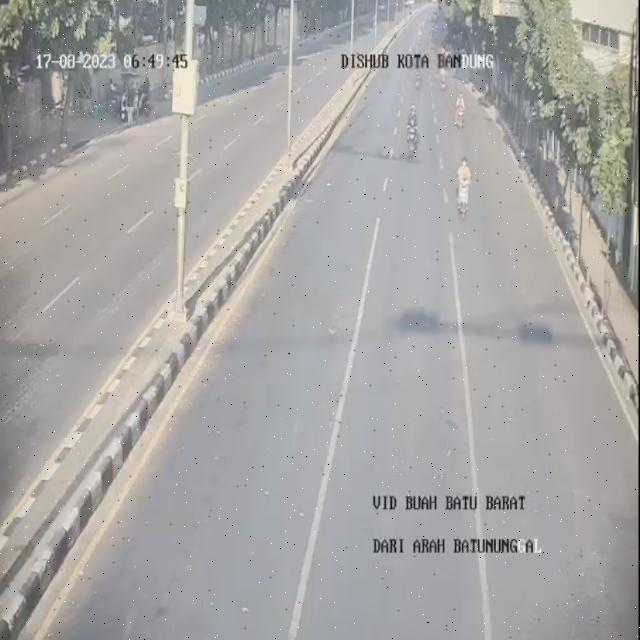motorcycle: (446, 144, 483, 232), (402, 104, 426, 162), (448, 89, 474, 133), (408, 58, 426, 99), (435, 54, 451, 96)
